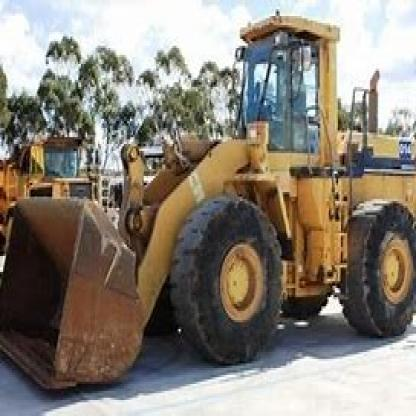bull_dozer/loader/grader: (5, 9, 414, 398)
